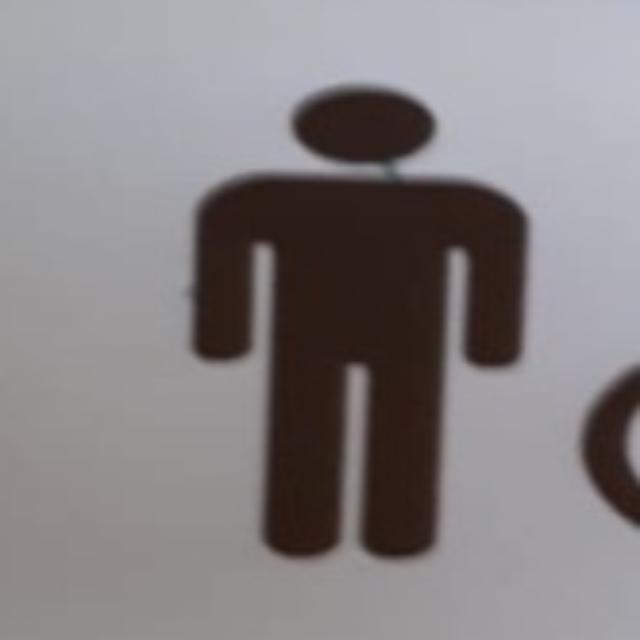wc nam: (193, 85, 520, 551)
